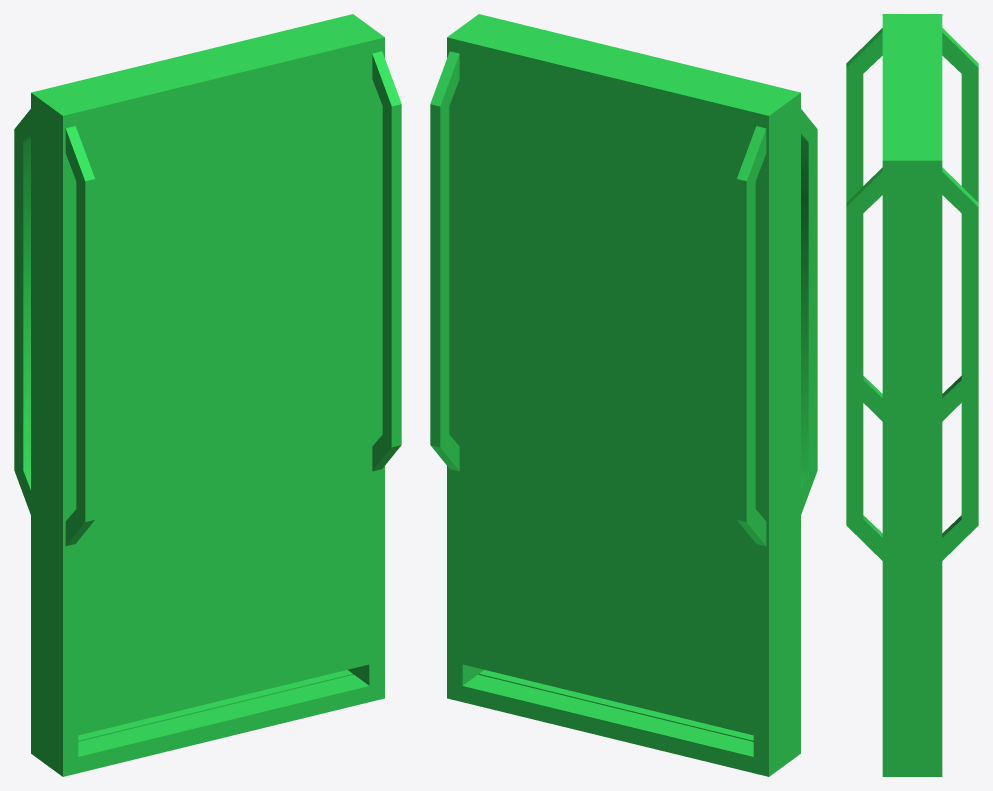
The model's file is RollDoor01_B.fbx.
3 renders of one model, left to right at view 1: azimuth 30°, elevation 25°; view 2: azimuth 150°, elevation 25°; view 3: azimuth 270°, elevation 25°, orthographic. The views are drawn at different scales.
Visible parts, largest first — view 1: RollDoor01_B; view 2: RollDoor01_B; view 3: RollDoor01_B.
Part boxes in pixels (x1=…): RollDoor01_B: x1=14, y1=14, x2=401, y2=776; RollDoor01_B: x1=430, y1=14, x2=817, y2=776; RollDoor01_B: x1=846, y1=14, x2=978, y2=776.
Size of the model in its own units: 149 by 292 by 56.79.
